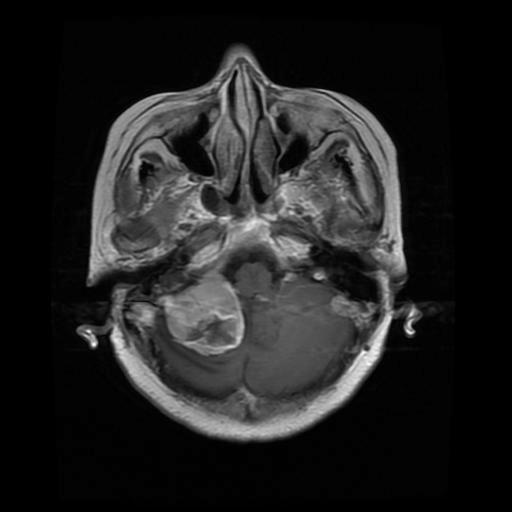Tumour-Meningioma: (150, 283, 270, 373)
